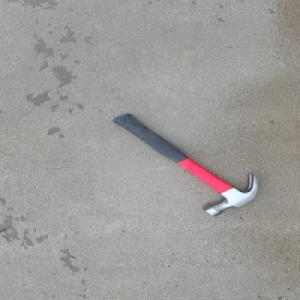Hammer: (111, 112, 259, 217)
